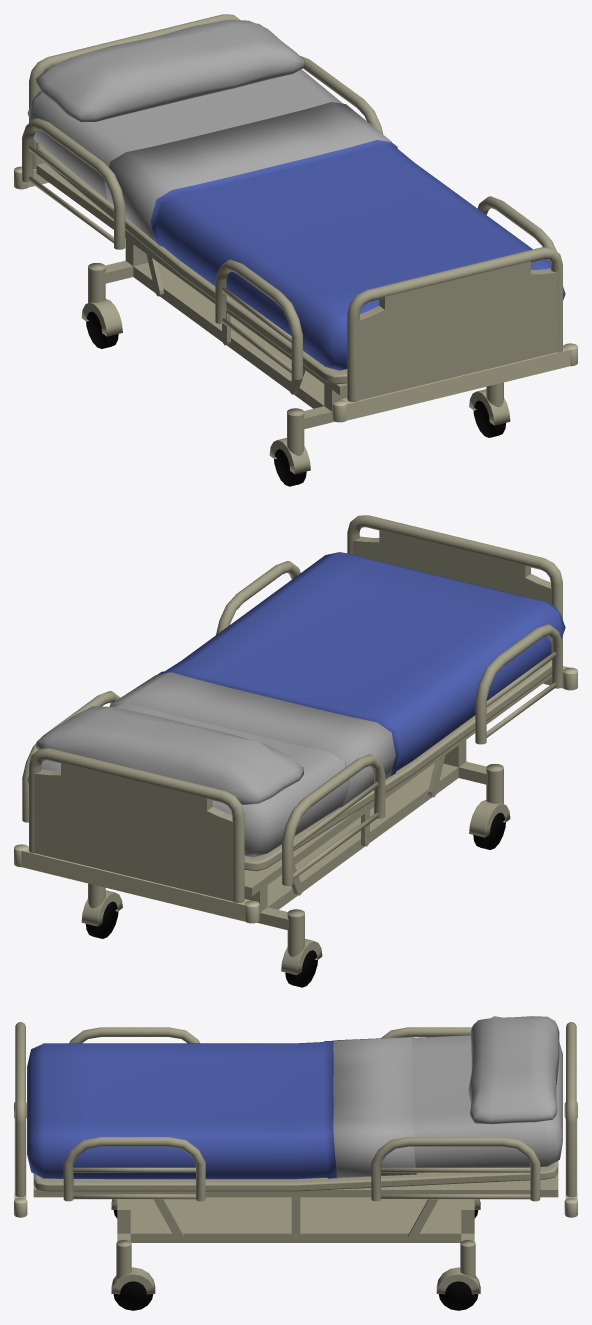
The model's file is hospital-bed.obj.
3 views of the same model, one above another, from view 1: azimuth 30°, elevation 25°; view 2: azimuth 150°, elevation 25°; view 3: azimuth 270°, elevation 25° (orthographic). The views are drawn at different scales.
Parts seen in each view (by area): view 1: Cube, Circle, Cube.005, Cube.003, Cube.004, Circle.004, Circle.003_Circle.005, Cube.002, Circle.001, Cube.001, Circle.006_Circle.007, Circle.002 (+1 smaller); view 2: Cube, Circle.006_Circle.007, Cube.005, Cube.003, Cube.004, Circle, Circle.004, Circle.005_Circle.006, Cube.002, Circle.001, Cube.001, Circle.002 (+1 smaller); view 3: Cube, Cube.004, Cube.003, Cube.005, Cube.002, Circle.004, Cube.001, Circle.002, Circle.006_Circle.007, Circle, Cylinder, Circle.001 (+2 smaller).
Part boxes in pixels (x1,y1,x2,y2): Cube: [27, 69, 565, 370]; Circle: [347, 247, 562, 401]; Cube.005: [35, 20, 303, 122]; Cube.003: [104, 102, 397, 246]; Cube.004: [81, 239, 510, 486]; Circle.004: [22, 56, 383, 249]; Circle.003_Circle.005: [332, 343, 577, 422]; Cube.002: [35, 143, 347, 384]; Circle.001: [215, 259, 302, 379]; Cube.001: [36, 163, 347, 395]; Circle.006_Circle.007: [29, 14, 240, 168]; Circle.002: [477, 196, 556, 260]; Cube: [27, 552, 565, 857]; Circle.006_Circle.007: [29, 748, 244, 902]; Cube.005: [36, 706, 303, 805]; Cube.003: [110, 668, 401, 807]; Cube.004: [81, 740, 510, 987]; Circle: [347, 515, 562, 642]; Circle.004: [22, 691, 385, 885]; Circle.005_Circle.006: [14, 844, 259, 923]; Cube.002: [244, 660, 551, 871]; Circle.001: [475, 624, 562, 744]; Cube.001: [244, 673, 551, 896]; Circle.002: [216, 561, 300, 634]; Cube: [27, 1035, 562, 1179]; Cube.004: [111, 1197, 480, 1310]; Cube.003: [323, 1037, 416, 1178]; Cube.005: [468, 1016, 559, 1124]; Cube.002: [33, 1161, 558, 1191]; Circle.004: [371, 1027, 540, 1201]; Cube.001: [33, 1173, 558, 1197]; Circle.002: [63, 1137, 205, 1201]; Circle.006_Circle.007: [566, 1022, 576, 1197]; Circle: [15, 1022, 25, 1197]; Cylinder: [153, 1197, 438, 1242]; Circle.001: [69, 1027, 199, 1043].
Bounding box in the file's own units: 100 × 89.68 × 210.
